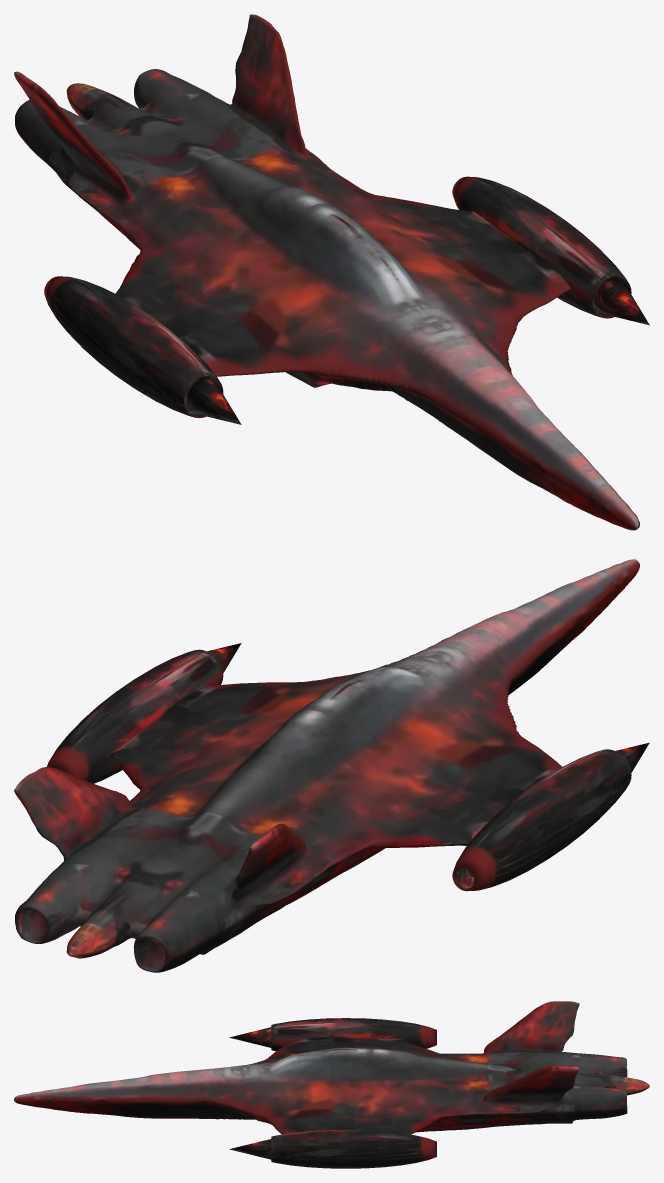
File: HFW_Daemon.glb
3 views of the same model, one above another, from view 1: azimuth 30°, elevation 25°; view 2: azimuth 150°, elevation 25°; view 3: azimuth 270°, elevation 25° (orthographic). The views are drawn at different scales.
Parts seen in each view (by area): view 1: HFW Daemon; view 2: HFW Daemon; view 3: HFW Daemon.
Part boxes in pixels (box(x1,y1,x2,y2)): HFW Daemon: box(14, 14, 649, 530); HFW Daemon: box(14, 559, 649, 972); HFW Daemon: box(14, 1001, 649, 1168).
Size of the model in its own units: 11.92 by 3.69 by 25.
Materials: 1 (1 with a texture image).
